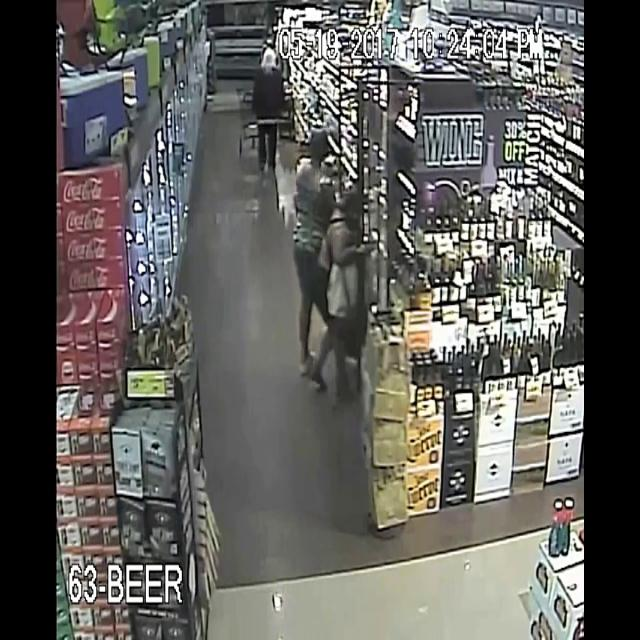normal: (242, 42, 306, 170)
shoplifting: (316, 190, 404, 372), (296, 94, 359, 216)
